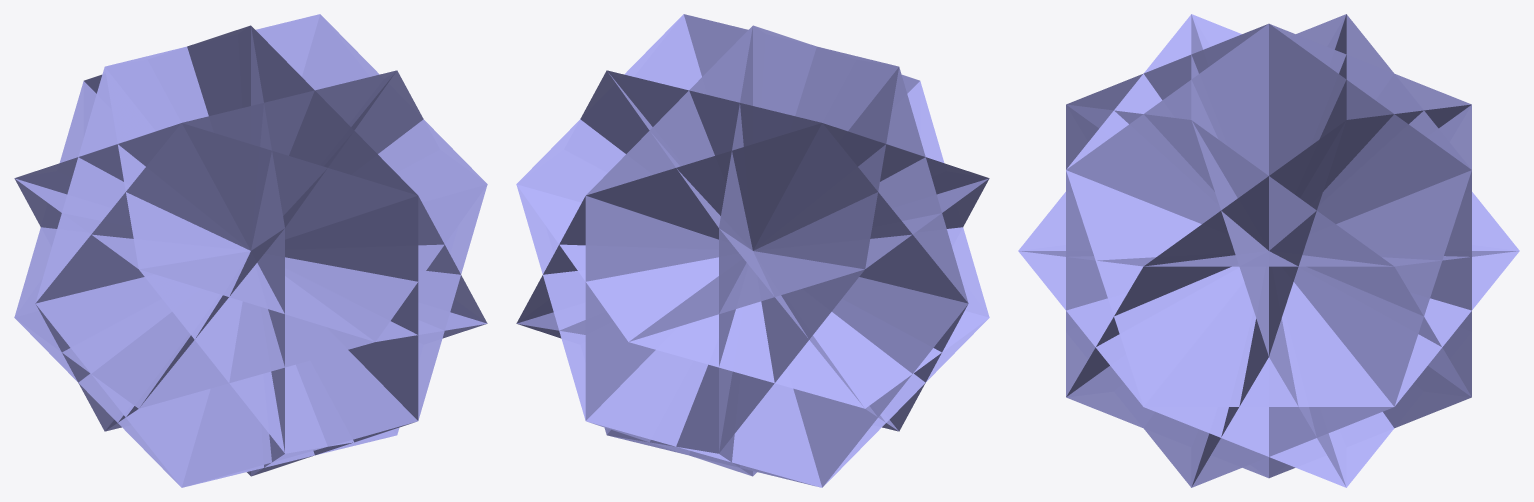
The model's file is SmallDodecahemicosahedronA.obj.
3 renders of one model, left to right at view 1: azimuth 30°, elevation 25°; view 2: azimuth 150°, elevation 25°; view 3: azimuth 270°, elevation 25°, orthographic.
Size of the model in its own units: 2 by 2 by 2.
